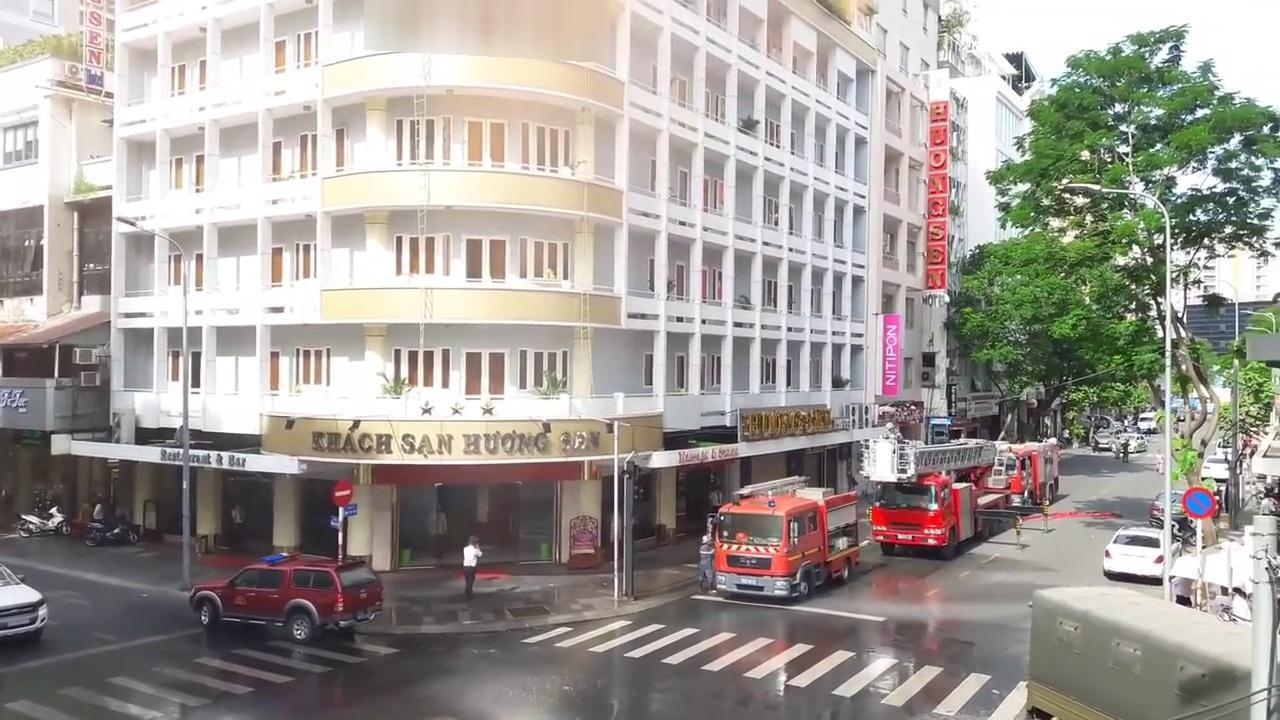xe cuu hoa: (859, 437, 1013, 559), (713, 475, 860, 600)
xe hoi: (187, 550, 382, 641), (0, 560, 46, 636), (1101, 524, 1162, 577)
